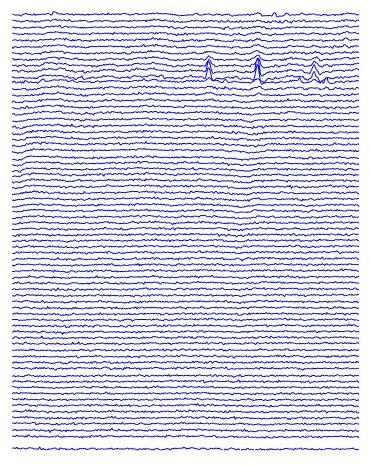defect: (293, 62, 333, 89), (245, 53, 268, 87), (206, 51, 219, 80)
